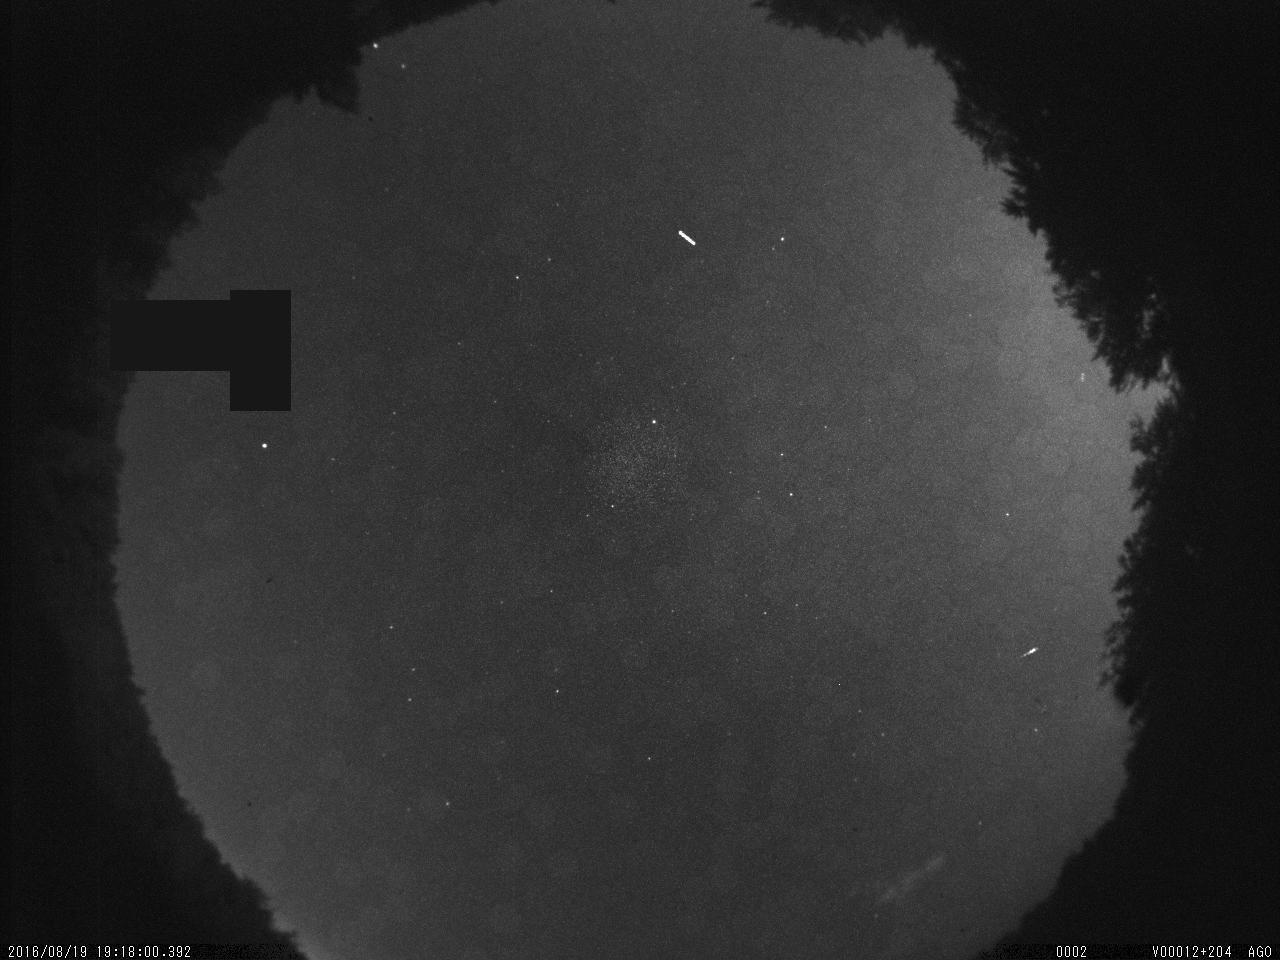meteor: (1012, 641, 1044, 665)
